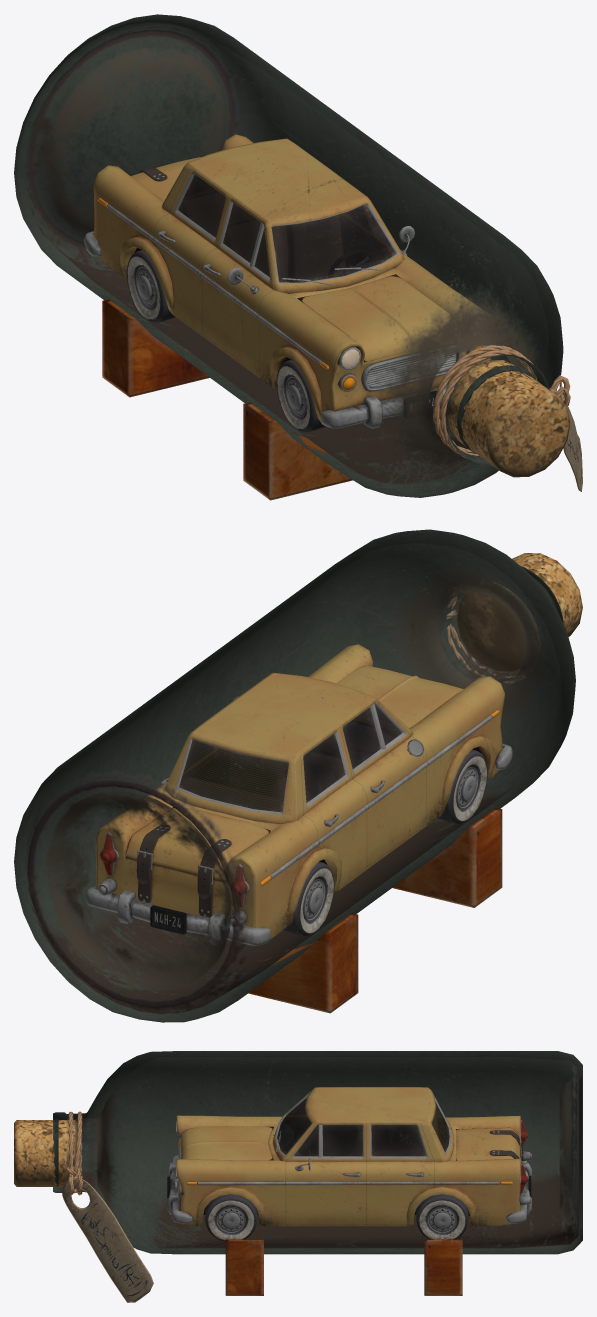
Rendered from Bottled_car.glb.
3 renders of one model, top to bottom at view 1: azimuth 30°, elevation 25°; view 2: azimuth 150°, elevation 25°; view 3: azimuth 270°, elevation 25°, orthographic. The views are drawn at different scales.
Visible parts, largest first — view 1: Object_6, Object_2, Object_7, Object_5, Object_10, Object_11, Object_9, Object_8; view 2: Object_6, Object_2, Object_7, Object_10, Object_5, Object_11; view 3: Object_6, Object_2, Object_7, Object_10, Object_5, Object_8, Object_11.
Part boxes in pixels (box(x1,y1,x2,y2)): Object_6: box(23, 24, 548, 484); Object_2: box(14, 14, 563, 497); Object_7: box(93, 134, 490, 423); Object_5: box(102, 299, 570, 500); Object_10: box(84, 153, 484, 432); Object_11: box(192, 193, 387, 291); Object_9: box(143, 267, 456, 399); Object_8: box(559, 381, 582, 491); Object_6: box(24, 543, 561, 1014); Object_2: box(14, 529, 575, 1022); Object_7: box(95, 644, 504, 939); Object_10: box(86, 696, 512, 945); Object_5: box(171, 553, 582, 1013); Object_11: box(194, 721, 370, 803); Object_6: box(66, 1057, 579, 1248); Object_2: box(53, 1051, 582, 1254); Object_7: box(176, 1087, 520, 1226); Object_10: box(167, 1098, 531, 1241); Object_5: box(14, 1111, 462, 1295); Object_8: box(62, 1178, 153, 1302); Object_11: box(279, 1120, 446, 1153).
Size of the model in its own units: 0.1352 by 0.1327 by 0.3463.
Materials: 9 (7 with a texture image).
